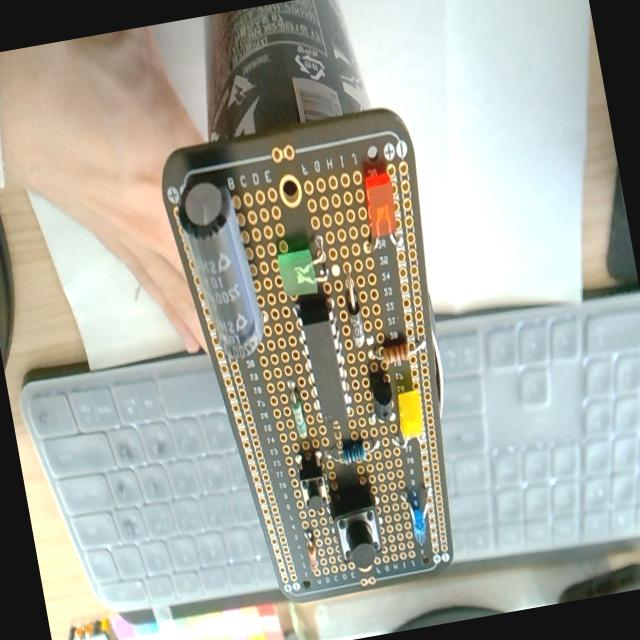Electrolytic capacitor: (172, 172, 270, 367)
IC: (289, 288, 356, 428)
diode: (339, 268, 366, 349)
led: (354, 165, 406, 253), (272, 232, 331, 300), (399, 484, 438, 551), (394, 387, 426, 441)
resistor: (371, 334, 428, 366), (288, 389, 308, 438), (339, 438, 369, 466), (305, 536, 320, 576)
switch: (328, 484, 388, 574), (295, 453, 328, 512)
transistor: (367, 368, 396, 423)
